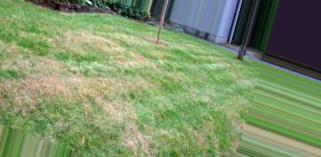patch: (24, 79, 53, 97), (51, 74, 85, 89), (89, 81, 108, 100), (47, 60, 58, 71), (112, 106, 125, 114)
